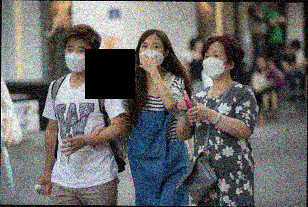with_mask: (64, 43, 91, 74), (202, 49, 228, 80), (138, 40, 164, 68)
